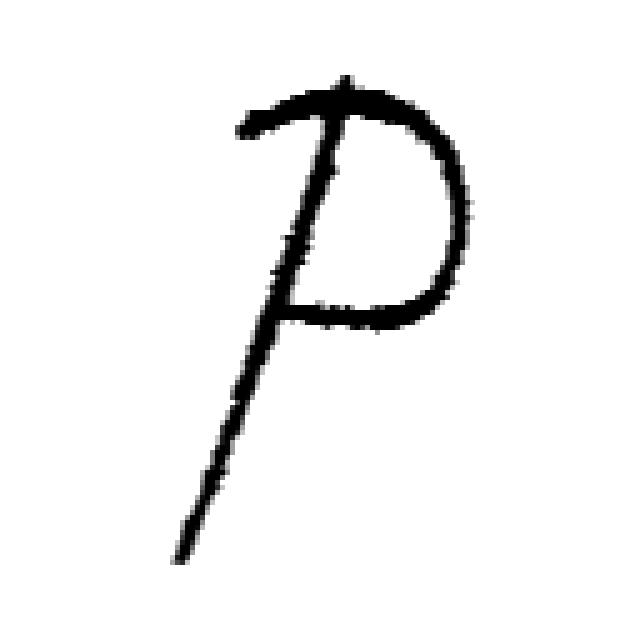P: (170, 75, 475, 570)
